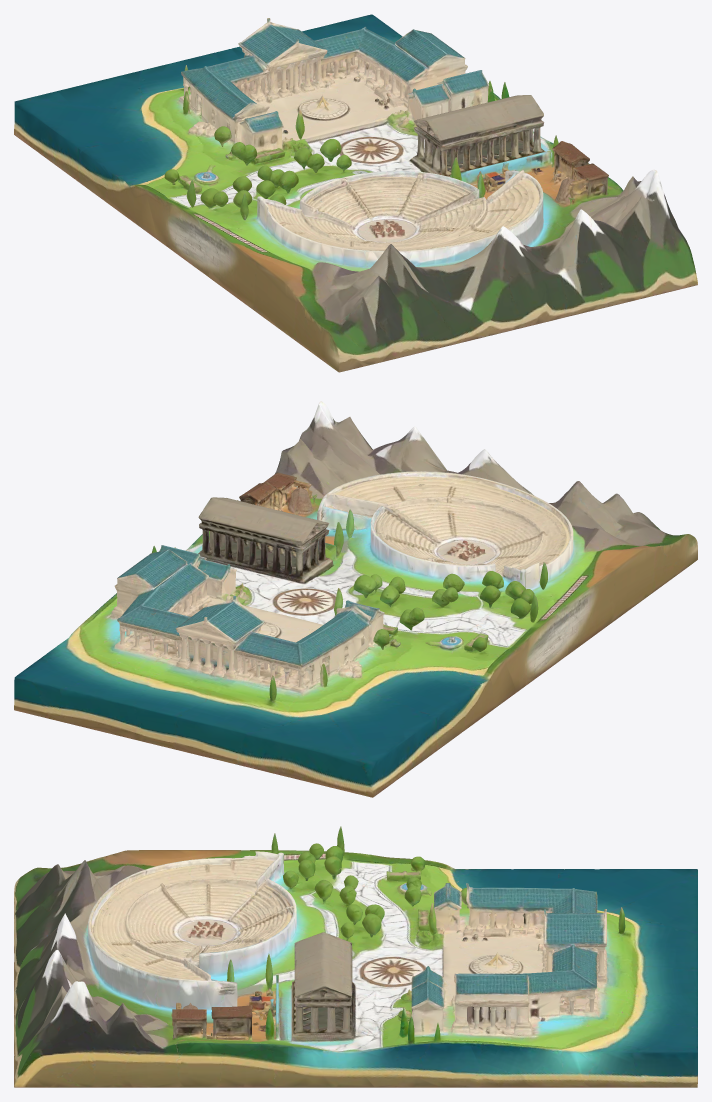
Rendered from map_small.glb.
The picture shows the model from 3 angles, top to bottom: view 1: azimuth 30°, elevation 25°; view 2: azimuth 150°, elevation 25°; view 3: azimuth 270°, elevation 25°; orthographic projection. The views are drawn at different scales.
Bounding box in the file's own units: 1.21 × 0.3133 × 1.9.
Materials: 1 (1 with a texture image).
